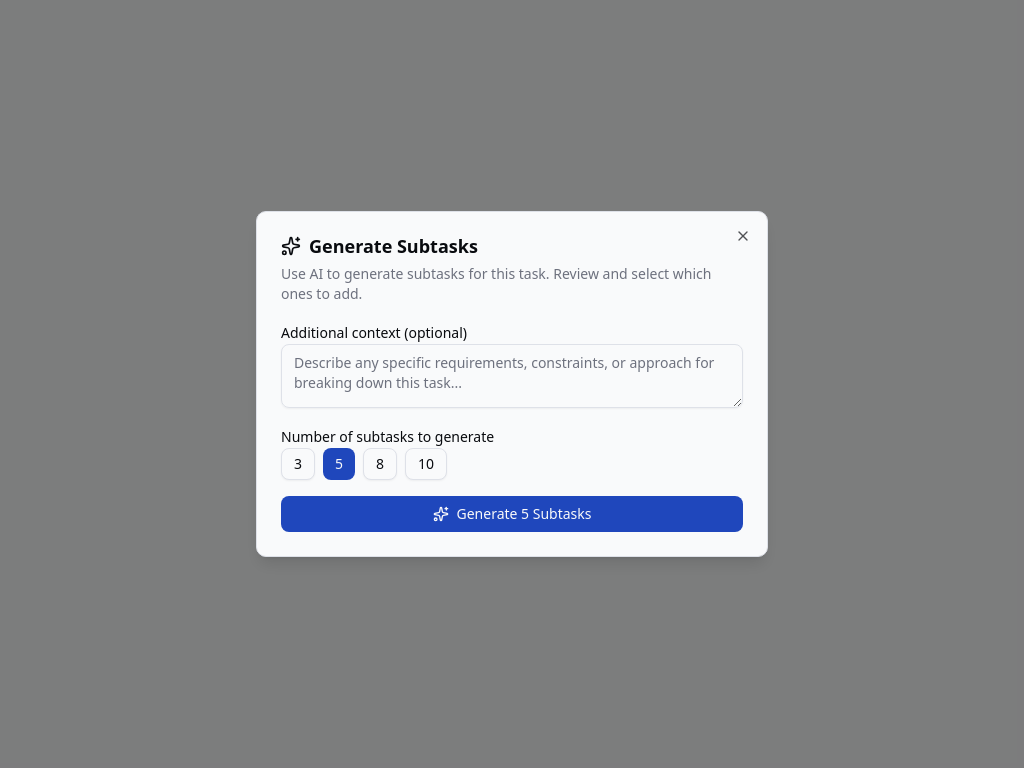
GenerateSubtasksDialog › changes count when a count button is clicked
What coordinates should you click on to do the following:
click the button "3"
I would click on:
 (298, 464)
Its box is [281, 448, 315, 480].
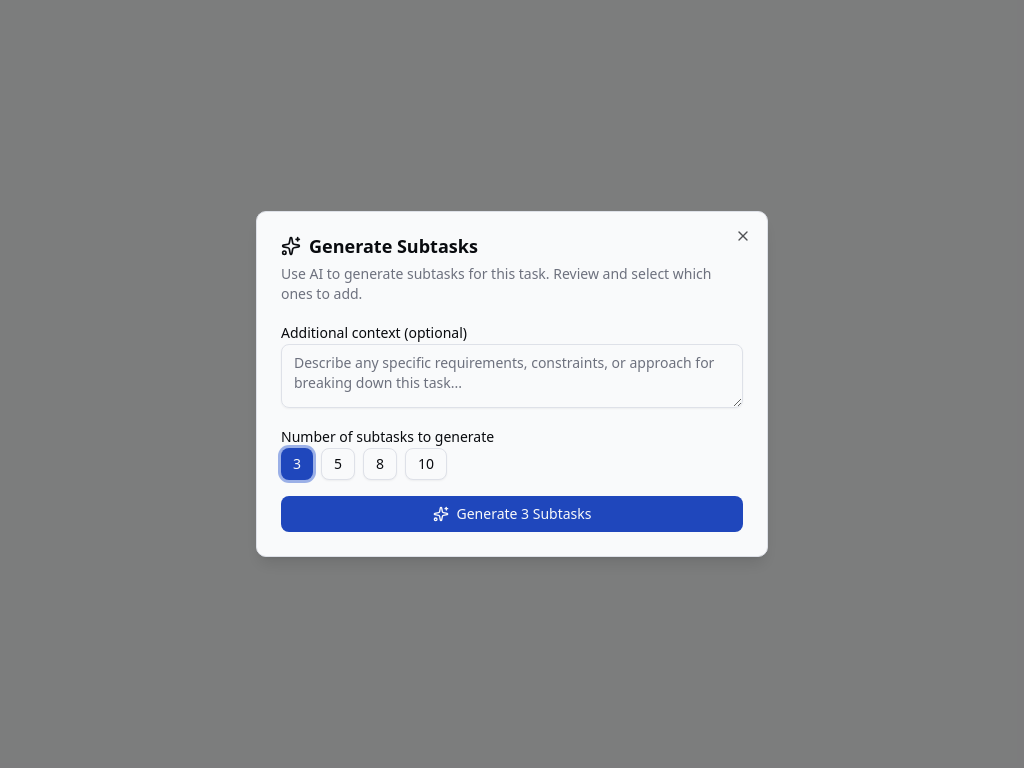
Expected: the button "Generate 3 Subtasks" is shown, [281, 496, 743, 532]
